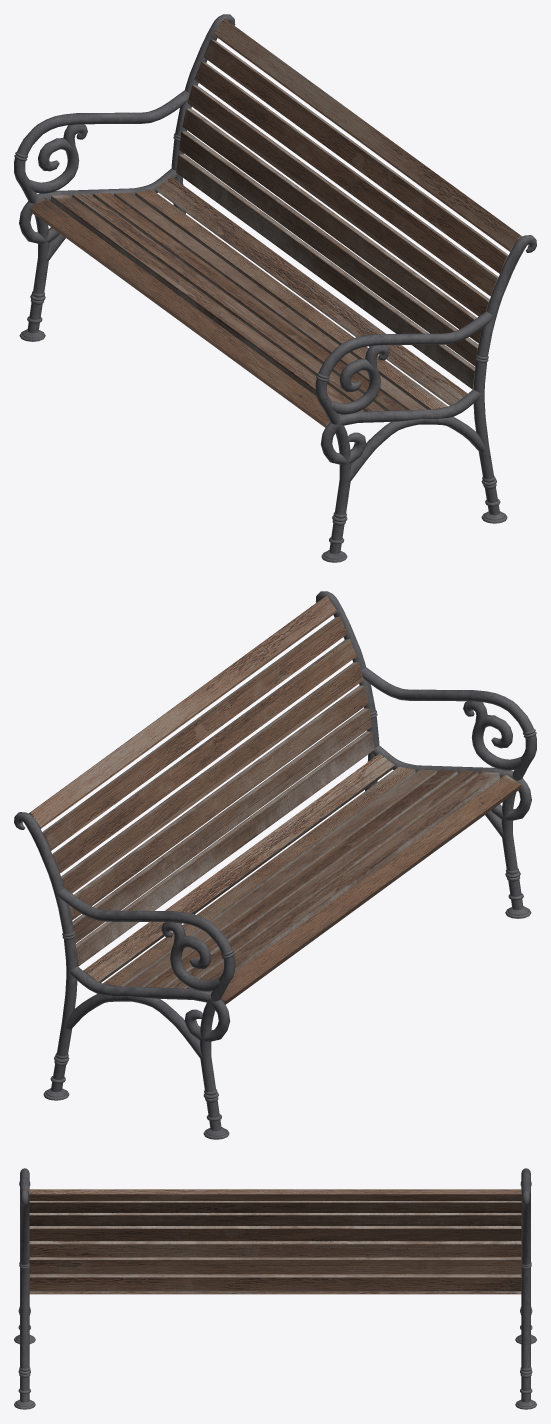
File: SM_Bench_Park_01.fbx
3 views of the same model, one above another, from view 1: azimuth 30°, elevation 25°; view 2: azimuth 150°, elevation 25°; view 3: azimuth 270°, elevation 25° (orthographic). The views are drawn at different scales.
Visible parts, largest first — view 1: SM_Bench_Park_01_LOD0; view 2: SM_Bench_Park_01_LOD0; view 3: SM_Bench_Park_01_LOD0.
Boxes of the visible parts, box(x1,y1,x2,y2) form: SM_Bench_Park_01_LOD0: box(14, 14, 536, 562); SM_Bench_Park_01_LOD0: box(14, 591, 536, 1139); SM_Bench_Park_01_LOD0: box(14, 1168, 536, 1409).
Size of the model in its own units: 67.32 by 167 by 80.43.
1 material, 1 textured.
